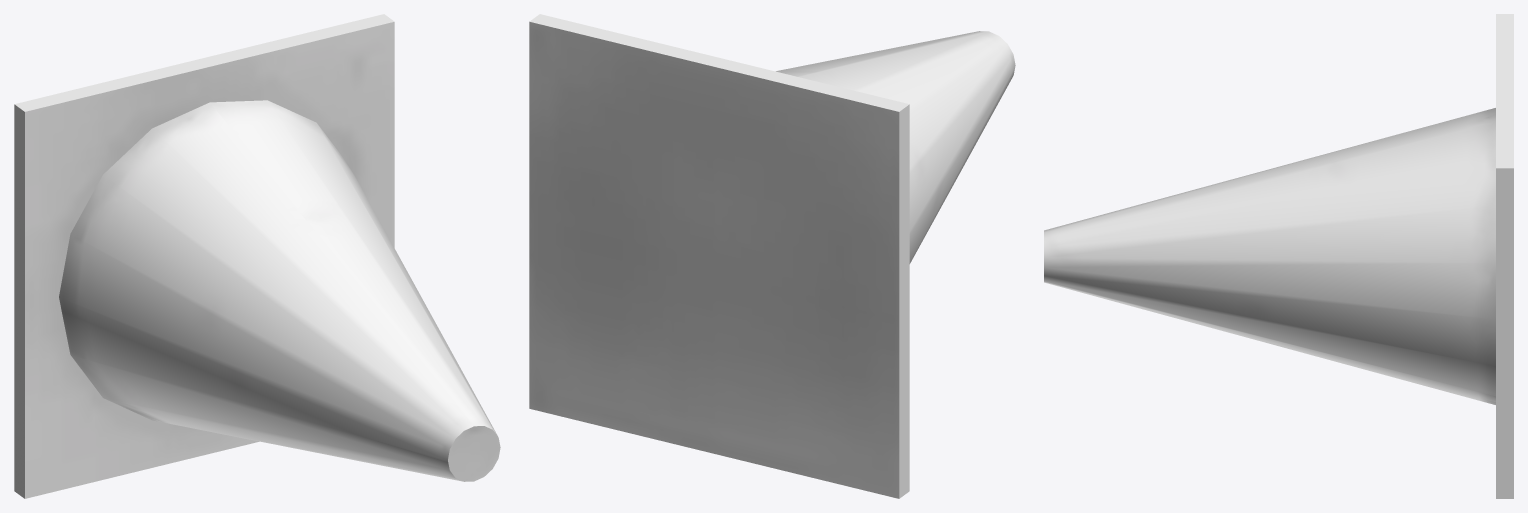
Rendered from trafficCone.glb.
3 renders of one model, left to right at view 1: azimuth 30°, elevation 25°; view 2: azimuth 150°, elevation 25°; view 3: azimuth 270°, elevation 25°, orthographic. The views are drawn at different scales.
Parts seen in each view (by area): view 1: Cylinder; view 2: Cylinder; view 3: Cylinder.
Boxes of the visible parts, x1,y1,x2,y2 form: Cylinder: [14, 14, 500, 498]; Cylinder: [529, 14, 1015, 498]; Cylinder: [1044, 14, 1513, 498].
Bounding box in the file's own units: 39.96 × 39.96 × 51.45.
1 material, 1 textured.
